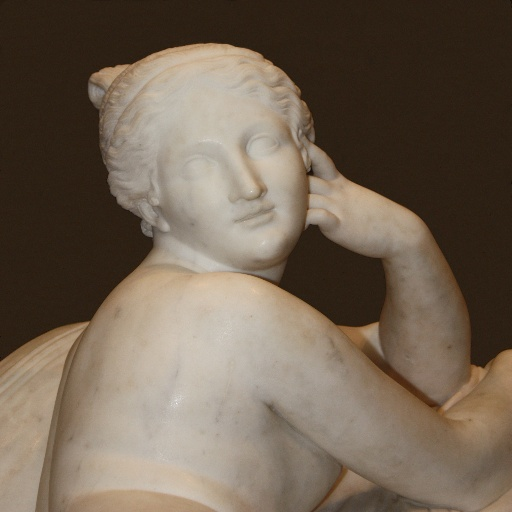hand: (295, 163, 437, 275)
